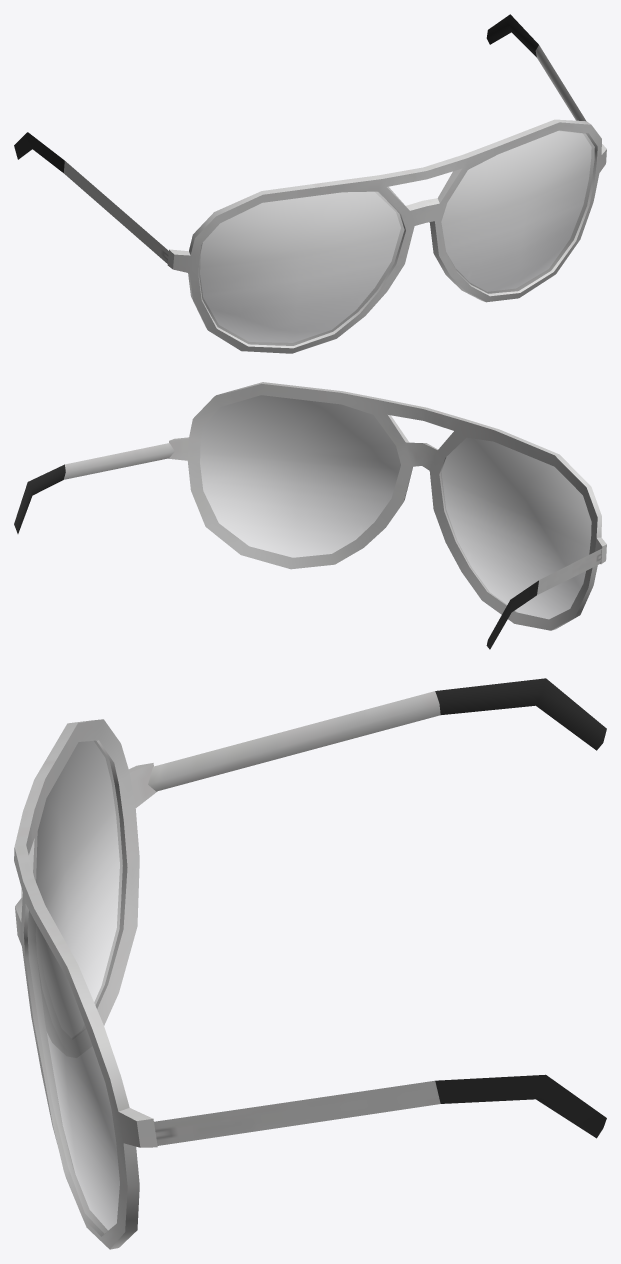
Rendered from p0_eyw0004_00_eyw00.gltf.
3 views of the same model, one above another, from view 1: azimuth 30°, elevation 25°; view 2: azimuth 150°, elevation 25°; view 3: azimuth 270°, elevation 25° (orthographic). The views are drawn at different scales.
Visible parts, largest first — view 1: eyw00_lens_mesh_shape:eyewear, eyw00_frame_mesh_shape:eyewear, eyw00_temple_mesh_shape:eyewear; view 2: eyw00_lens_mesh_shape:eyewear, eyw00_frame_mesh_shape:eyewear, eyw00_temple_mesh_shape:eyewear; view 3: eyw00_lens_mesh_shape:eyewear, eyw00_temple_mesh_shape:eyewear, eyw00_frame_mesh_shape:eyewear.
Part boxes in pixels (x1,y1,x2,y2): eyw00_lens_mesh_shape:eyewear: [199, 130, 594, 345]; eyw00_frame_mesh_shape:eyewear: [167, 119, 606, 353]; eyw00_temple_mesh_shape:eyewear: [14, 14, 586, 263]; eyw00_lens_mesh_shape:eyewear: [200, 395, 591, 619]; eyw00_frame_mesh_shape:eyewear: [168, 382, 606, 630]; eyw00_temple_mesh_shape:eyewear: [14, 443, 601, 649]; eyw00_lens_mesh_shape:eyewear: [27, 740, 122, 1233]; eyw00_temple_mesh_shape:eyewear: [148, 678, 606, 1145]; eyw00_frame_mesh_shape:eyewear: [14, 719, 157, 1249].
Size of what is drawn, in the model's own units: 0.2148 by 0.074 by 0.1358.
Materials: 1 (1 with a texture image).
